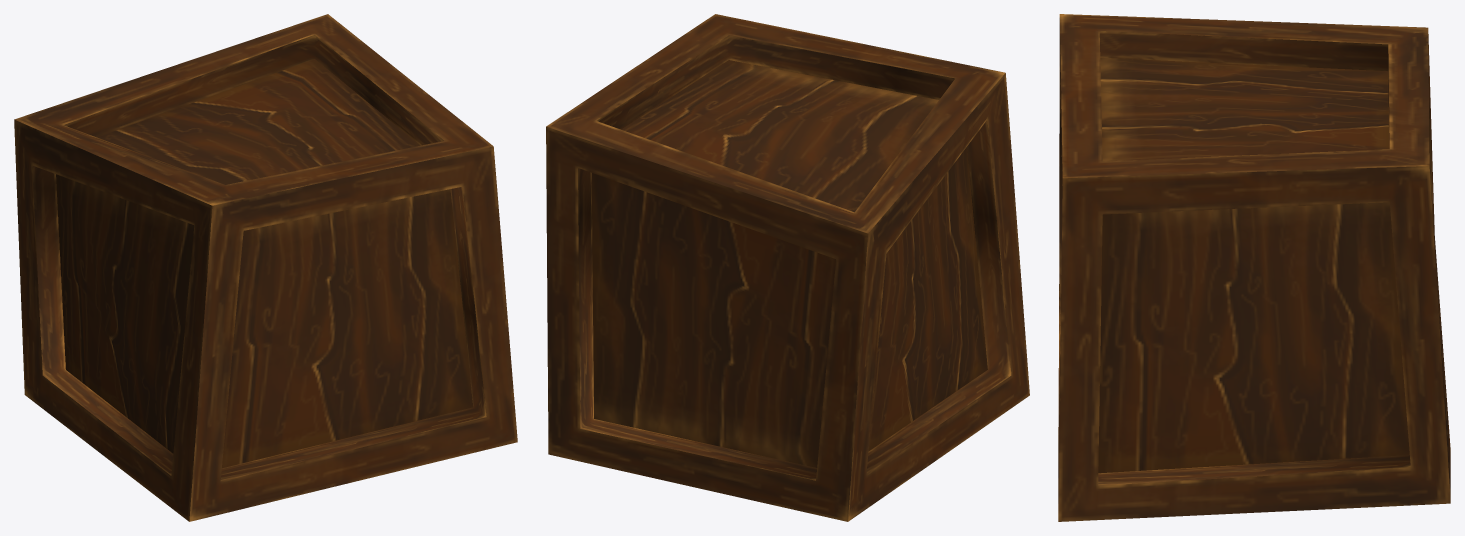
Rendered from V_Caja_Oscuro2.fbx.
3 renders of one model, left to right at view 1: azimuth 30°, elevation 25°; view 2: azimuth 150°, elevation 25°; view 3: azimuth 270°, elevation 25°, orthographic. The views are drawn at different scales.
Parts seen in each view (by area): view 1: V_Caja_Oscuro2; view 2: V_Caja_Oscuro2; view 3: V_Caja_Oscuro2.
Part boxes in pixels (x1,y1,x2,y2): V_Caja_Oscuro2: (14,14,517,521); V_Caja_Oscuro2: (546,14,1029,521); V_Caja_Oscuro2: (1058,14,1450,521).
Size of the model in its own units: 70.8 by 62.48 by 64.6.
